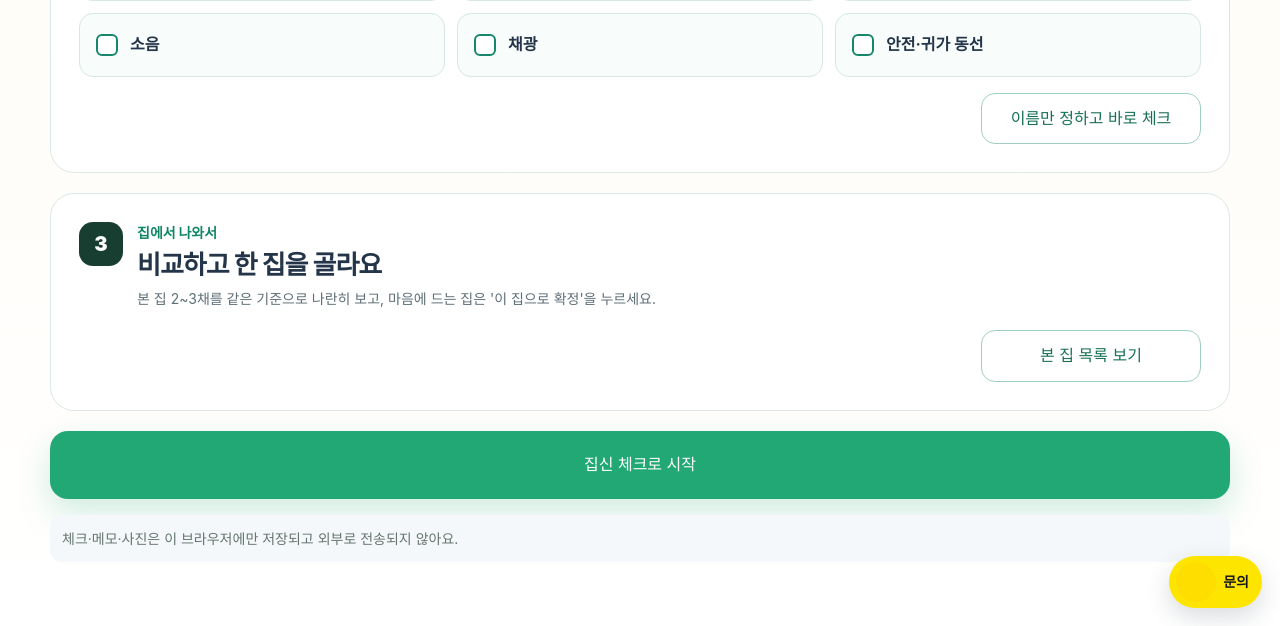
it: 집신체크 V2 등록 › 3단계 버튼은 집이 부족하면 전체 목록으로 이동한다
(page scrolled)
Click the button "본 집 목록 보기".
click(1091, 356)  # box [981, 330, 1201, 382]
(page scrolled)
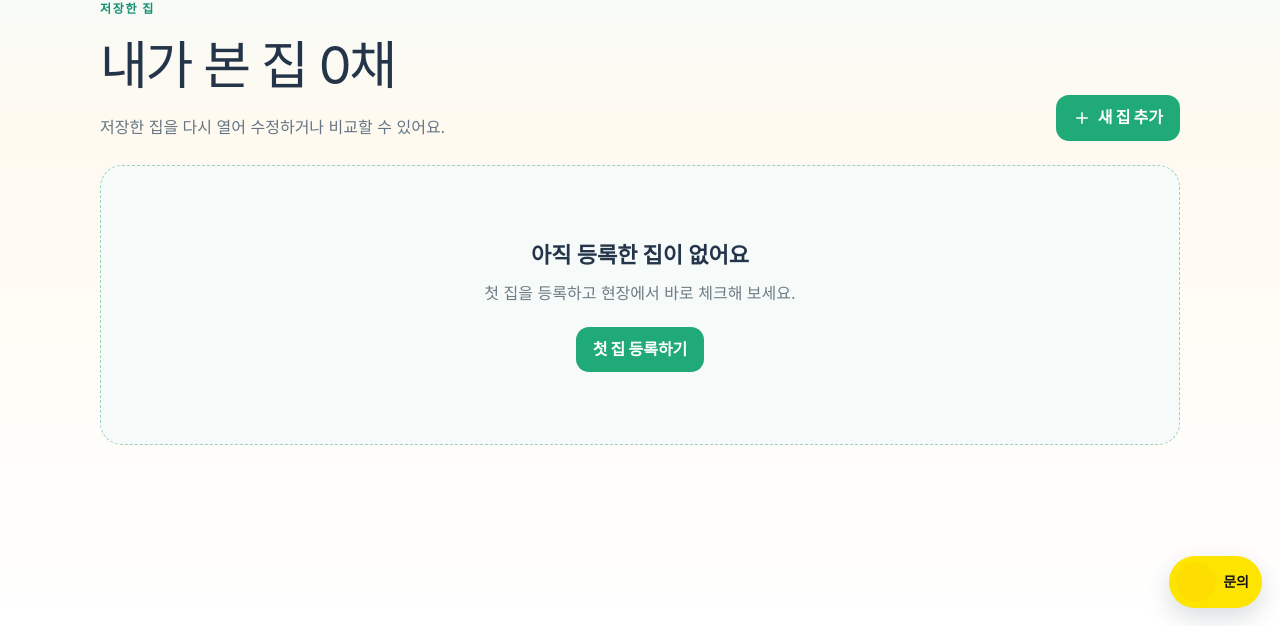
Now the heading "내가 본 집 0채" is shown, box [100, 24, 445, 107]
